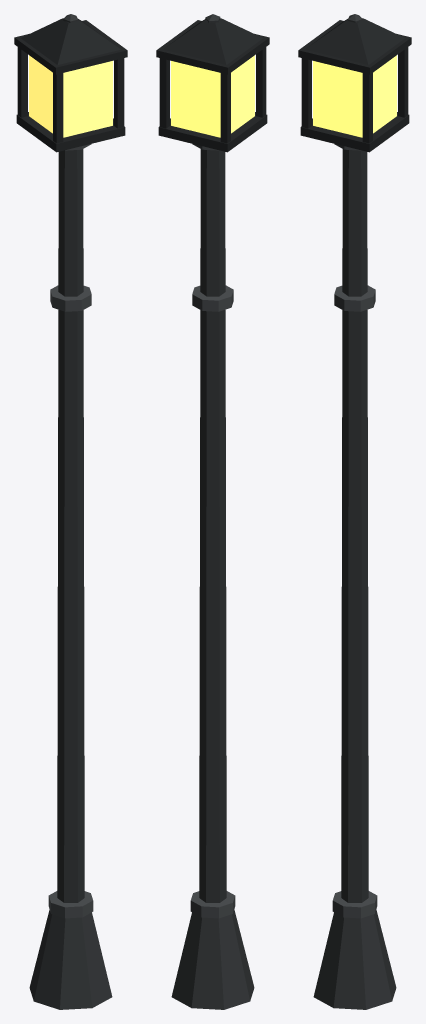
The model's file is prop_road_lamp.glb.
3 views of the same model, side by side, from view 1: azimuth 30°, elevation 25°; view 2: azimuth 150°, elevation 25°; view 3: azimuth 330°, elevation 25° (orthographic).
Visible parts, largest first — view 1: Lamp; view 2: Lamp; view 3: Lamp.
Part boxes in pixels (bbox=[...]): Lamp: bbox=[14, 14, 127, 1009]; Lamp: bbox=[156, 14, 269, 1009]; Lamp: bbox=[298, 14, 411, 1009].
Size of the model in its own units: 0.28 by 3.52 by 0.28.
